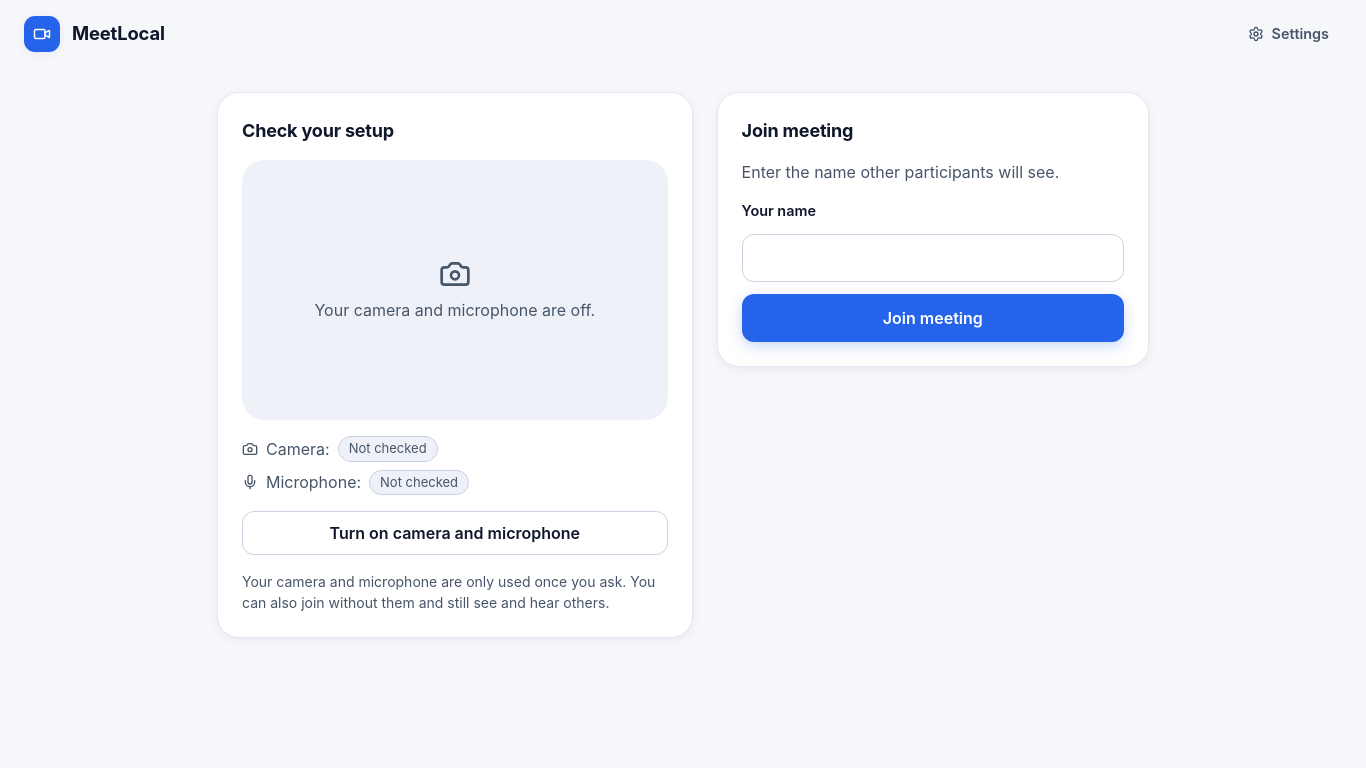
Test: join page › explains a blocked camera and offers to try again
Click the button "Turn on camera and microphone". click: [455, 533]
box: top-left (242, 511), bottom-right (668, 555)
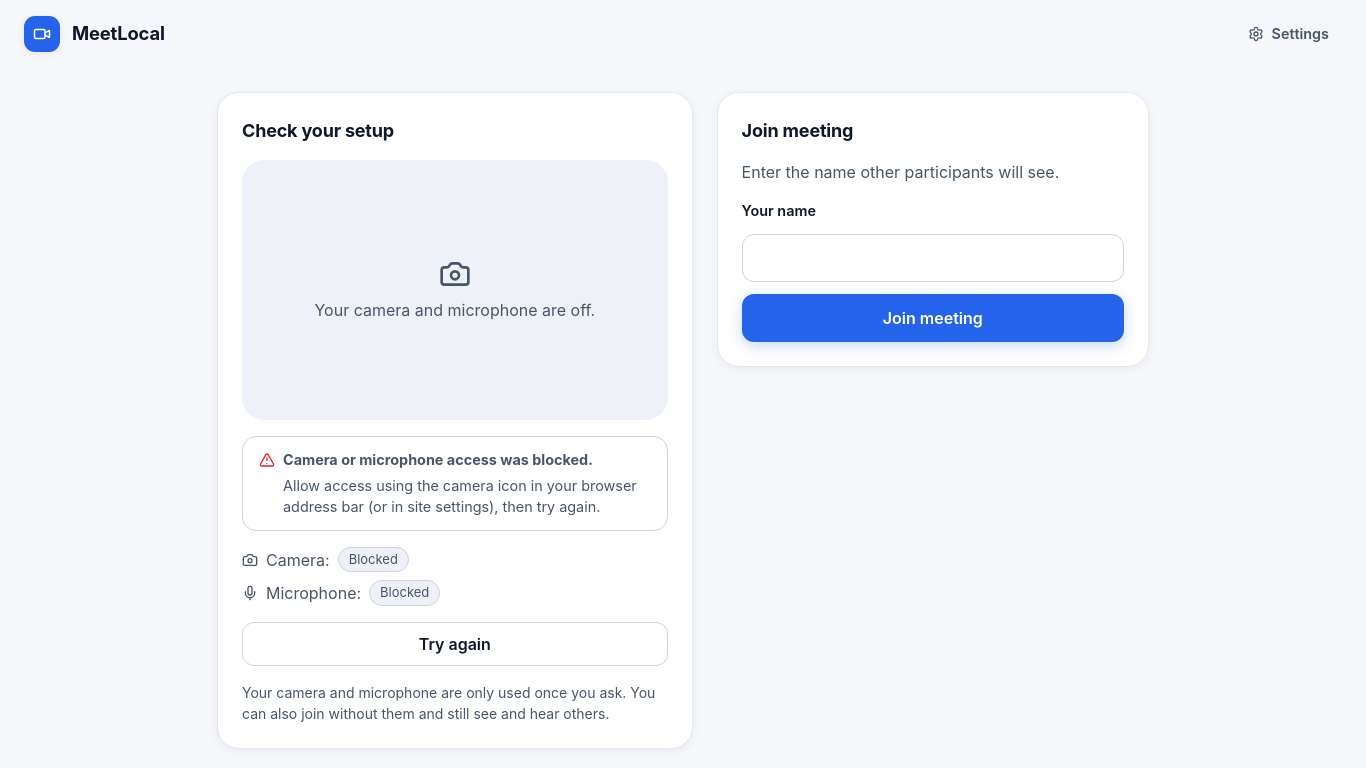
Check: the text "Blocked" is shown 2 times, box top-left (338, 547), bottom-right (409, 572); top-left (369, 580), bottom-right (440, 606)
Check: the text "Camera or microphone access was blocked." is shown, box top-left (283, 451), bottom-right (593, 468)
Check: the button "Try again" is shown, box top-left (242, 622), bottom-right (668, 666)
